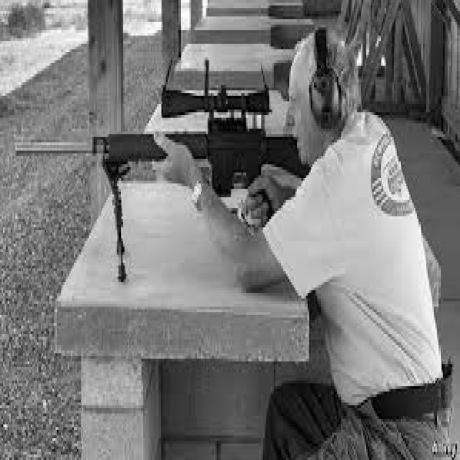Guns: (12, 56, 293, 278)
